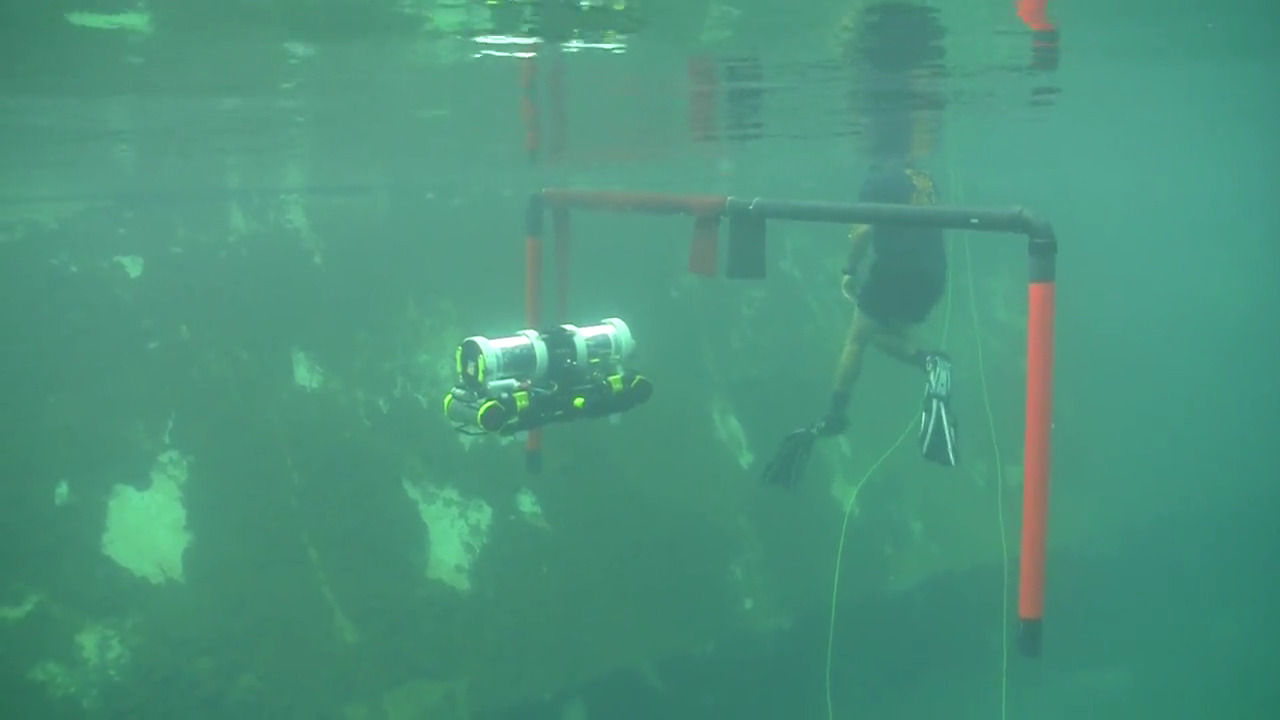gate: (510, 178, 1073, 667)
